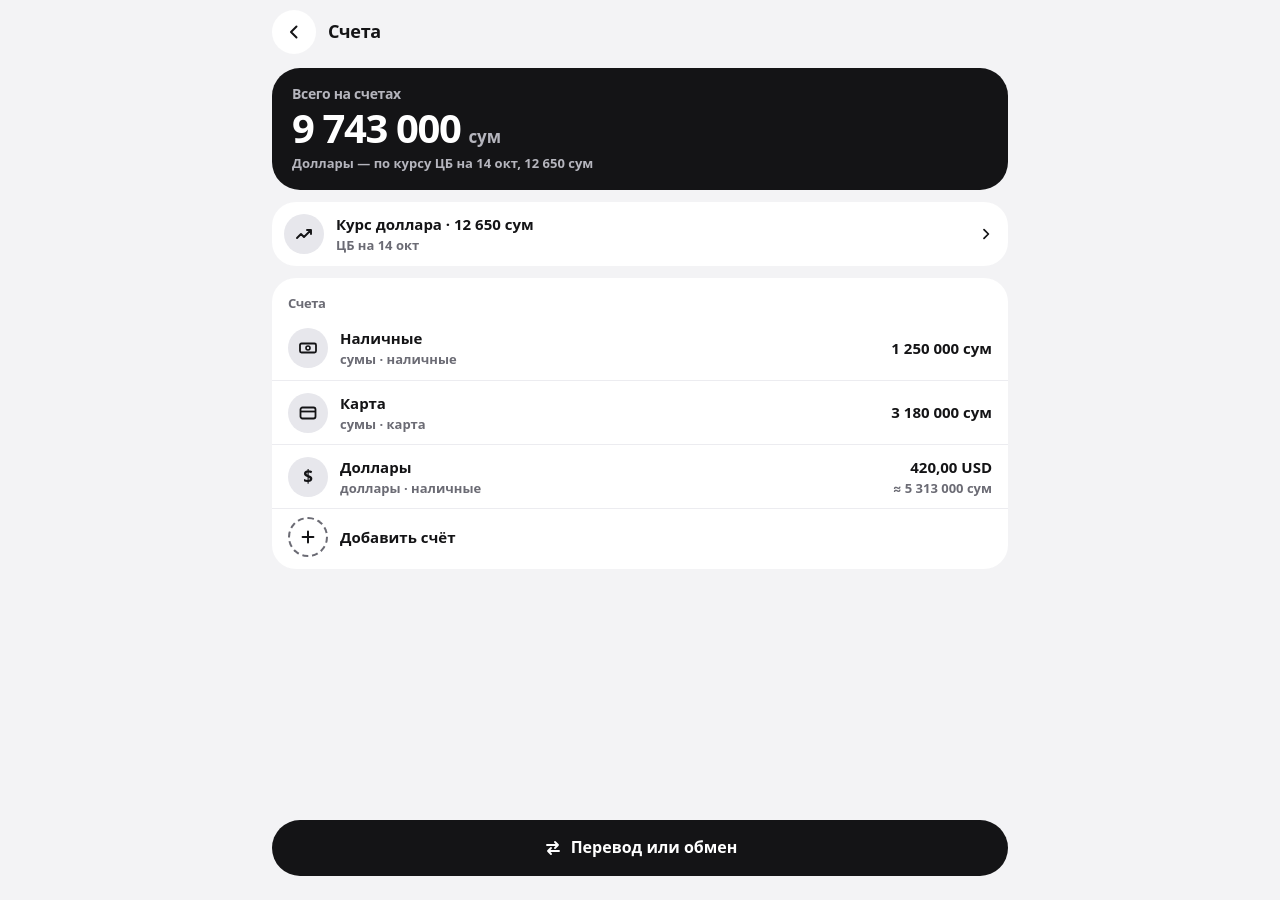
Test: Accounts › the rate row opens the Central Bank rate with its date
Click the button "Курс доллара · 12 650 сум ЦБ на 14 окт". click: [304, 234]
box: [272,202,1008,266]
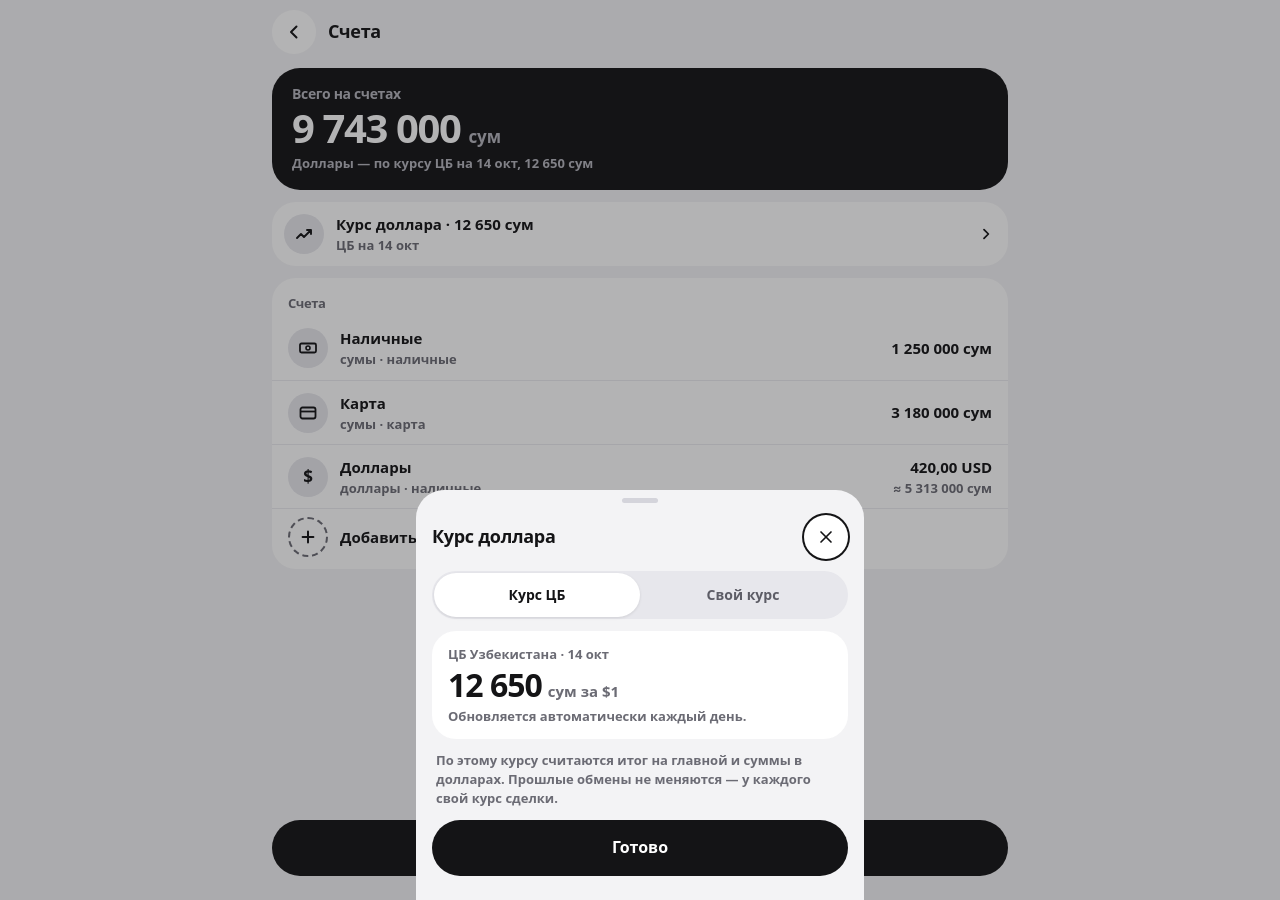
Result: the heading "Курс доллара" is shown at [432,525,556,549]
Result: the text "ЦБ Узбекистана · 14 окт" is shown at [448,645,609,663]
Result: the text "Обновляется автоматически каждый день." is shown at [448,707,746,725]
